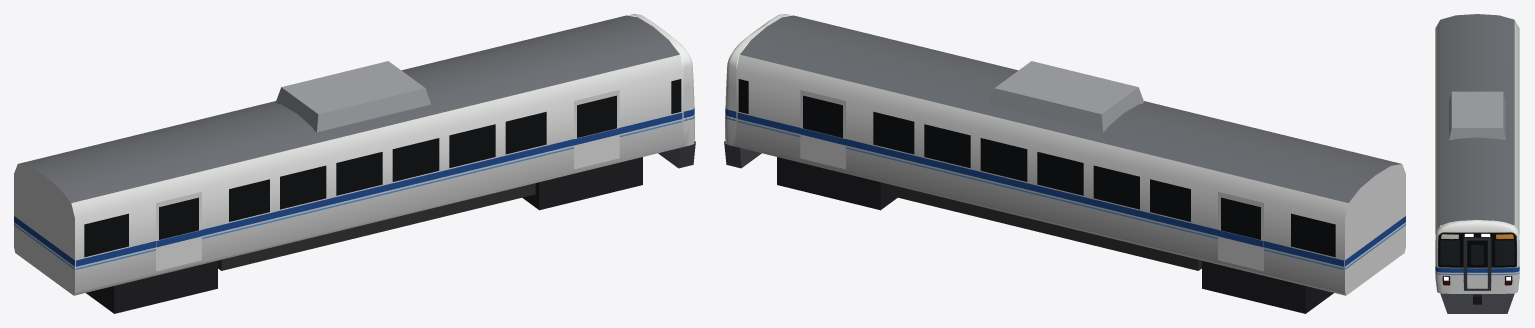
File: r500_Tcg_far.glb
3 renders of one model, left to right at view 1: azimuth 30°, elevation 25°; view 2: azimuth 150°, elevation 25°; view 3: azimuth 270°, elevation 25°, orthographic. The views are drawn at different scales.
Visible parts, largest first — view 1: far_body, far_detail, far_roof_under; view 2: far_body, far_detail, far_roof_under; view 3: far_body, far_roof_under, far_detail.
Part boxes in pixels (<box>): far_body: <box>14,14,694,295</box>; far_detail: <box>76,79,682,271</box>; far_roof_under: <box>86,61,695,313</box>; far_body: <box>725,14,1405,295</box>; far_detail: <box>737,79,1343,271</box>; far_roof_under: <box>724,61,1333,313</box>; far_body: <box>1435,14,1519,293</box>; far_roof_under: <box>1440,91,1514,313</box>; far_detail: <box>1444,234,1510,284</box>.
Bounding box in the file's own units: 17.75 × 3.93 × 3.01.
Materials: 14 (1 with a texture image).
